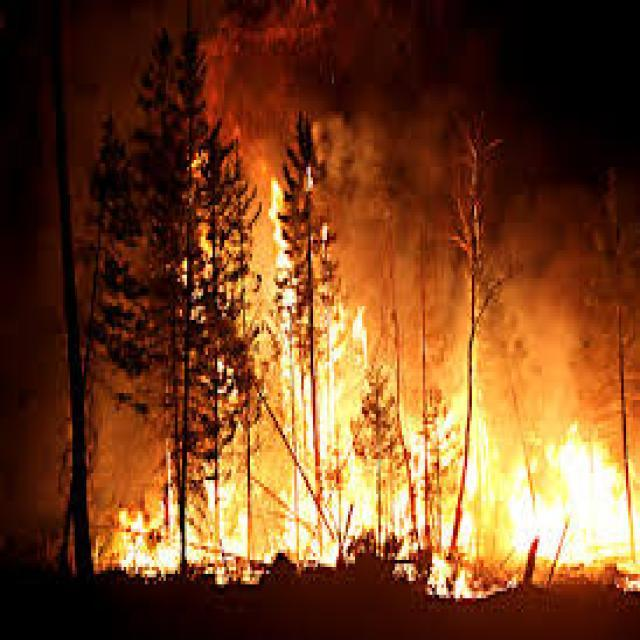Fire: (89, 111, 640, 609)
